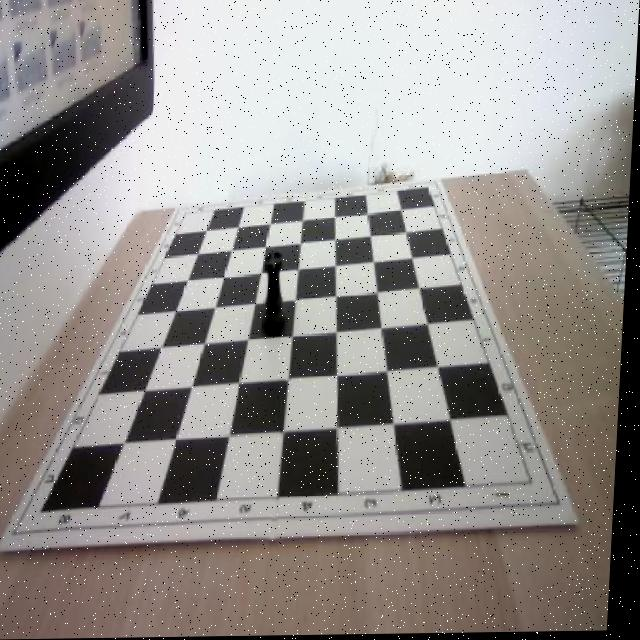black-queen: (262, 250, 293, 339)
